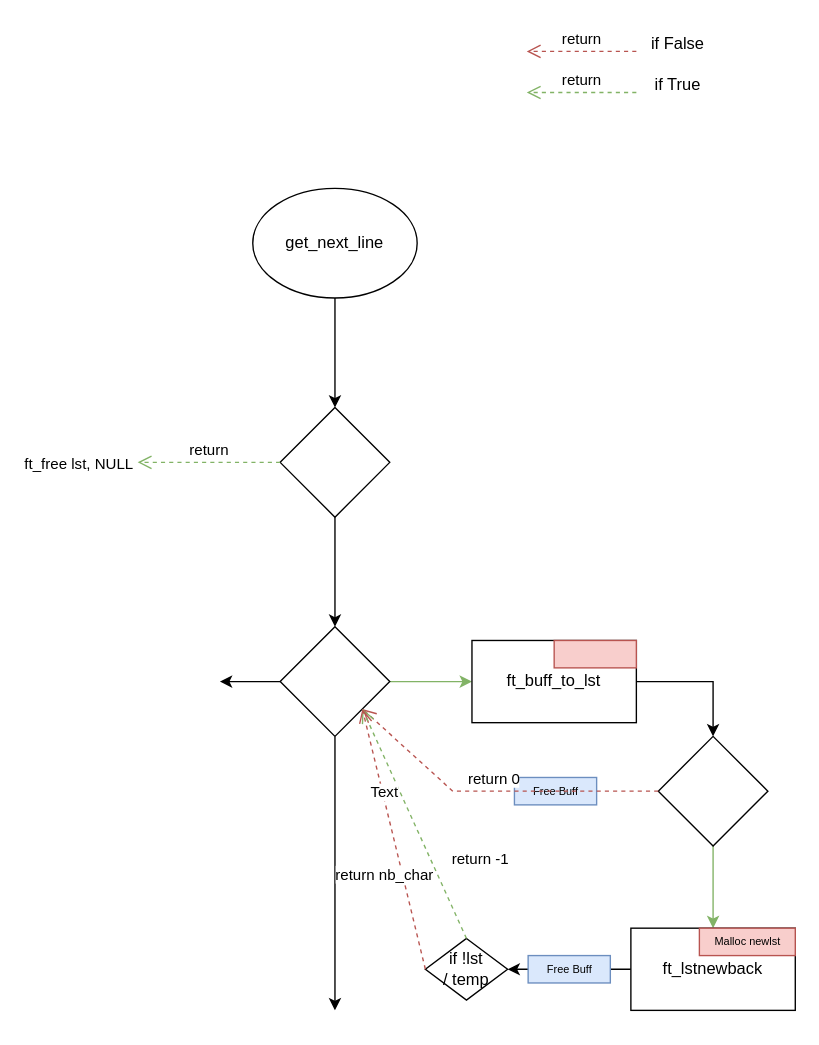
This 819x1045 diagram has some shape labels left out. The centre of each missing label's shape, as x and y in pixels:
check fd read buff: (334,461)
if check !lst: (334,680)
if nb_char != 0: (712,790)
Malloc Buff: (594,653)
